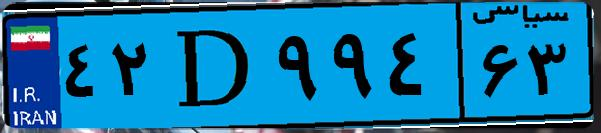2: (110, 28, 158, 98)
3: (525, 38, 570, 115)
4: (385, 28, 445, 110), (57, 26, 110, 100)
6: (475, 38, 525, 113)
9: (270, 28, 330, 110), (330, 28, 385, 110)
D: (158, 12, 270, 120)
